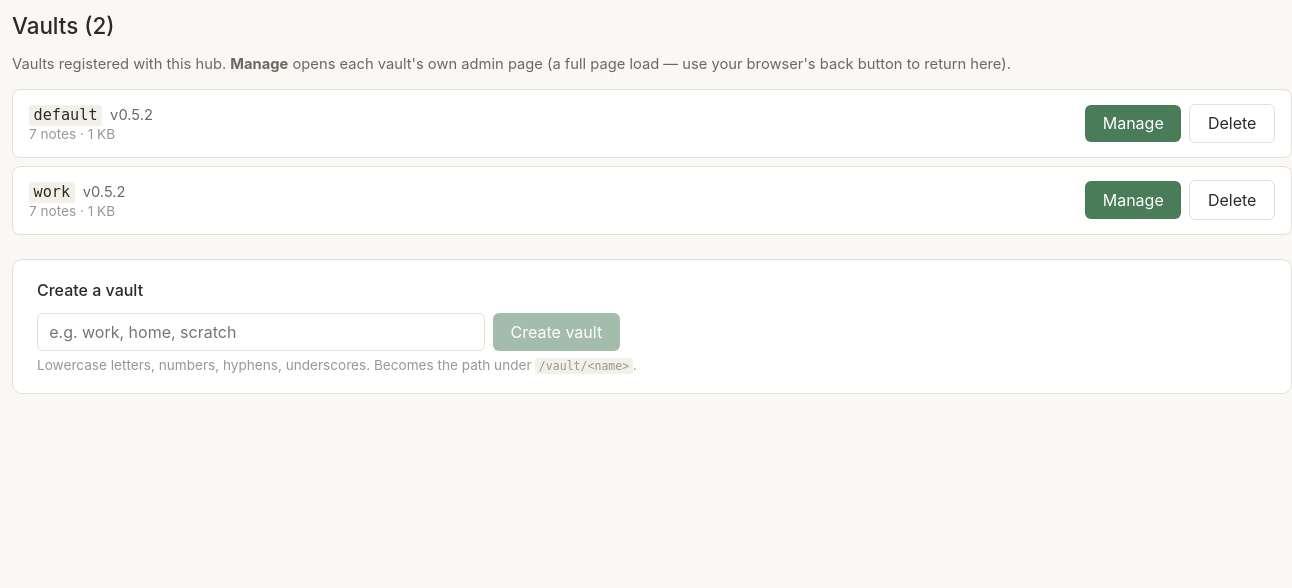
Test: MultiVaultHome — create › submits the name to createVaultViaHub and shows the one-shot token banner
Type "scratch" into the field named "New vault name" at point(261, 332), box [37,313,485,351]
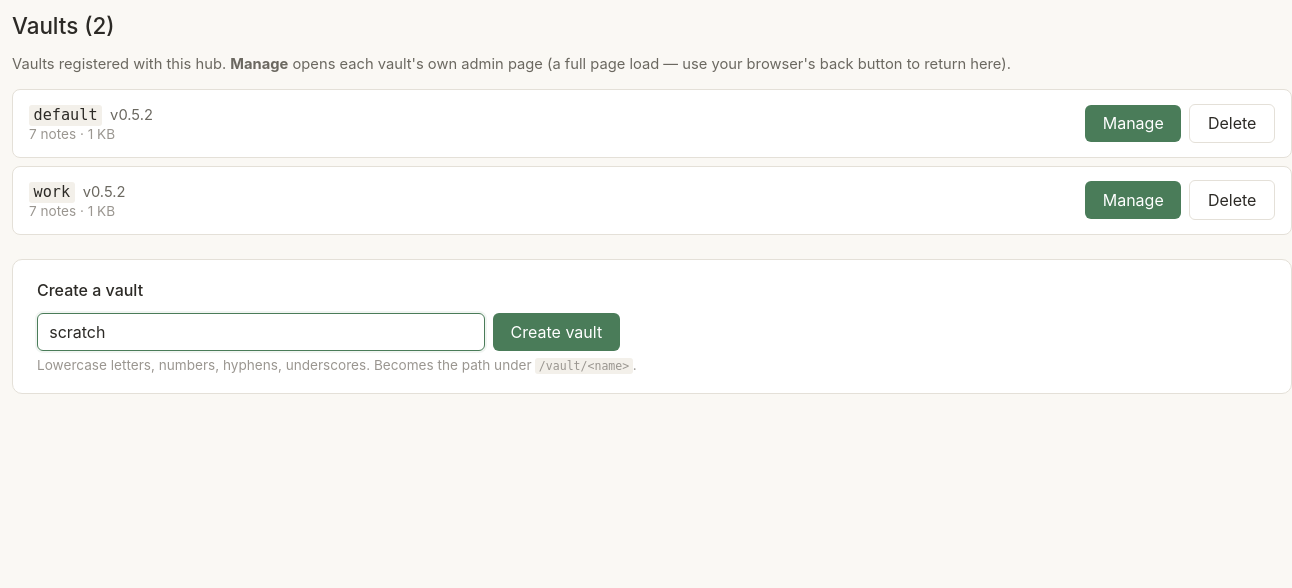
Click the button "Create vault" at point(556, 332), box [493,313,620,351]
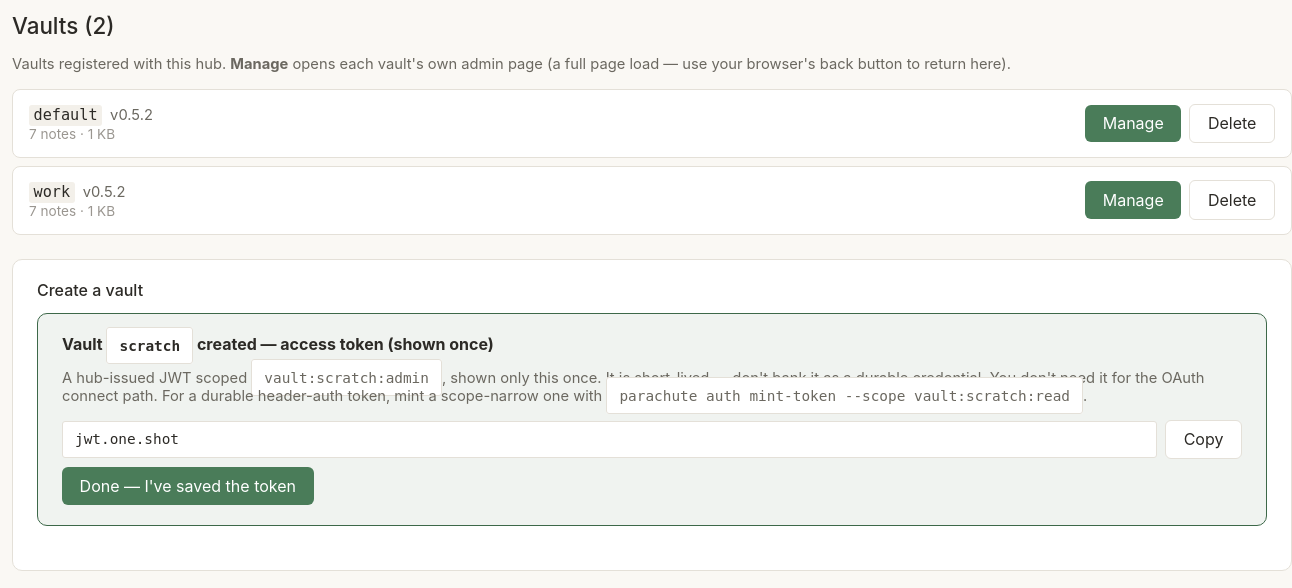
Result: the heading "Vault scratch created — access token (shown once)" is shown at [62,327,494,364]
Result: the text "jwt.one.shot" is shown at [62,421,1157,458]
Result: the text "short-lived" is shown at [62,369,1204,405]
